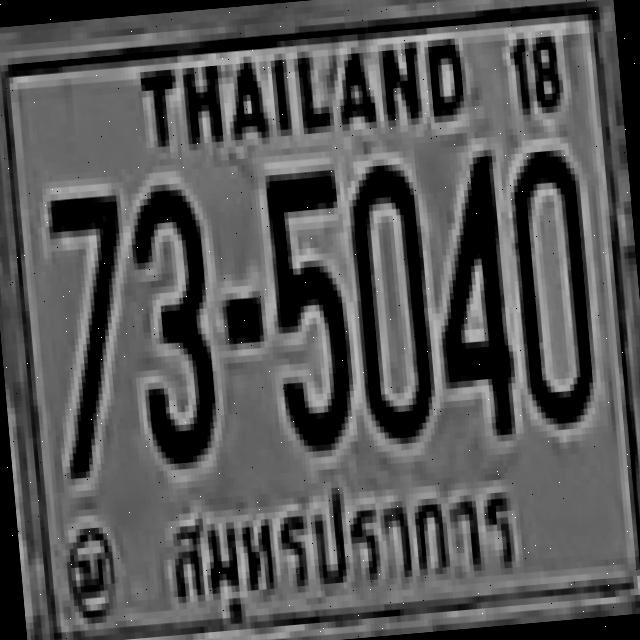0: (341, 156, 435, 440), (504, 142, 598, 420)
3: (124, 178, 218, 462)
4: (426, 146, 516, 430)
5: (260, 163, 354, 447)
7: (44, 188, 138, 472)
SamutPrakan: (153, 460, 526, 606)
